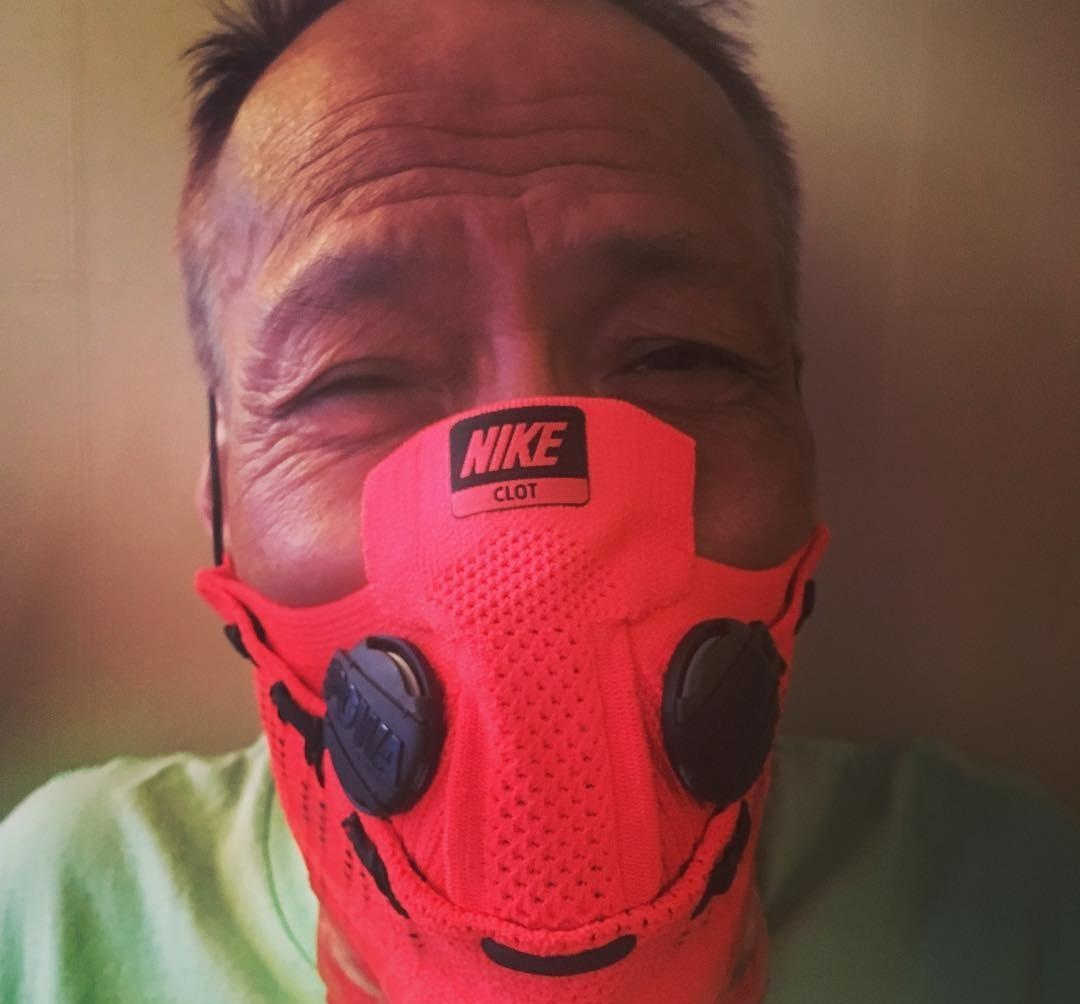Mask: (95, 176, 915, 996)
